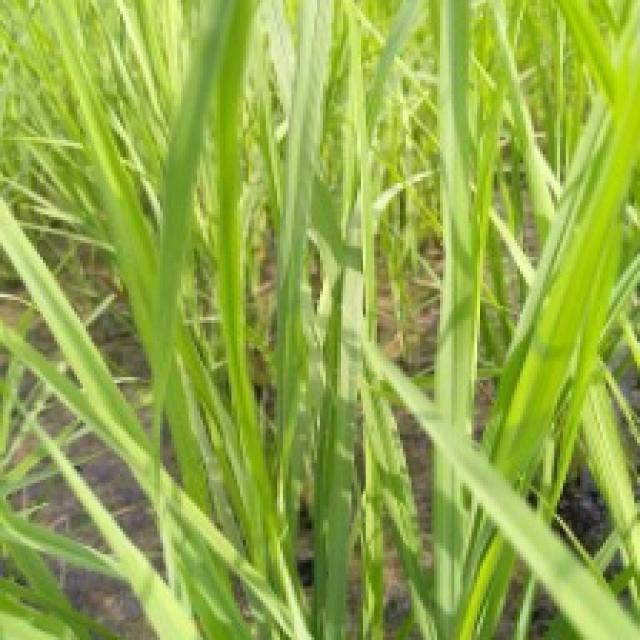Healthy-Plant: (77, 5, 374, 640), (463, 0, 640, 640), (428, 4, 485, 640)
